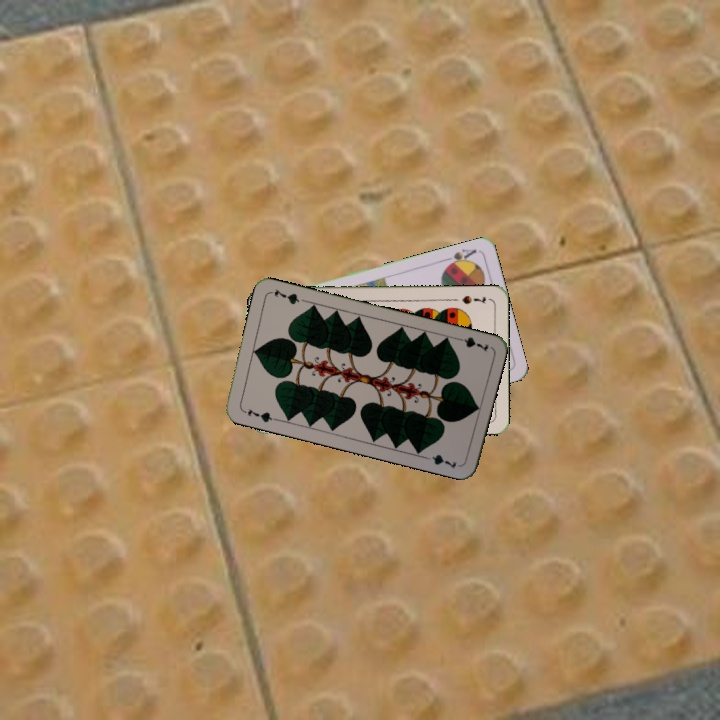G7: (451, 333, 491, 355), (239, 404, 279, 425)
S7: (458, 291, 488, 307)
SA: (440, 245, 479, 270)
